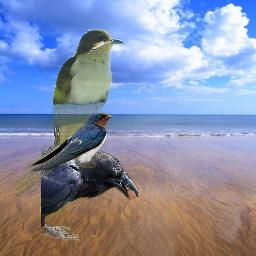Crow: (41, 144, 139, 241)
Cuckoo: (39, 29, 125, 221)
Swallow: (15, 112, 114, 194)
